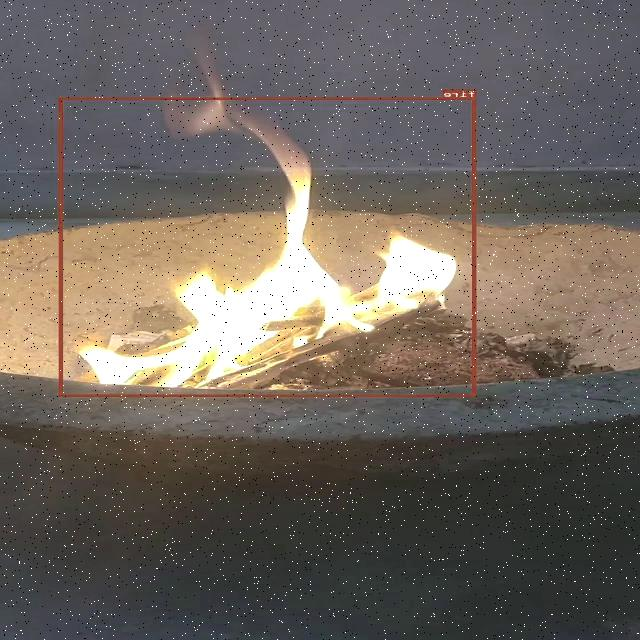fire: (60, 97, 478, 397)
